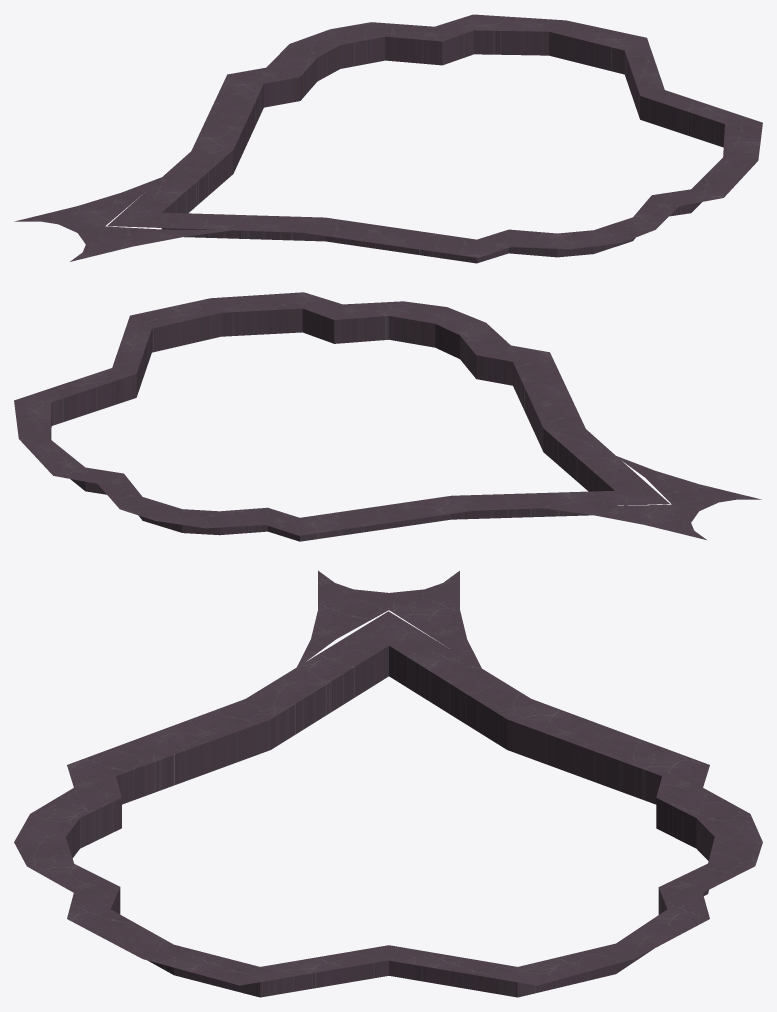
File: SD_xs_dimian06.FBX
The picture shows the model from 3 angles, top to bottom: view 1: azimuth 30°, elevation 25°; view 2: azimuth 150°, elevation 25°; view 3: azimuth 270°, elevation 25°; orthographic projection. The views are drawn at different scales.
Visible parts, largest first — view 1: SD_xs_dimian06; view 2: SD_xs_dimian06; view 3: SD_xs_dimian06.
Boxes of the visible parts, x1,y1,x2,y2 form: SD_xs_dimian06: (14,14,762,263); SD_xs_dimian06: (14,292,761,541); SD_xs_dimian06: (14,570,762,997).
Size of the model in its own units: 1372 by 47.34 by 1046.
1 material, 1 textured.
